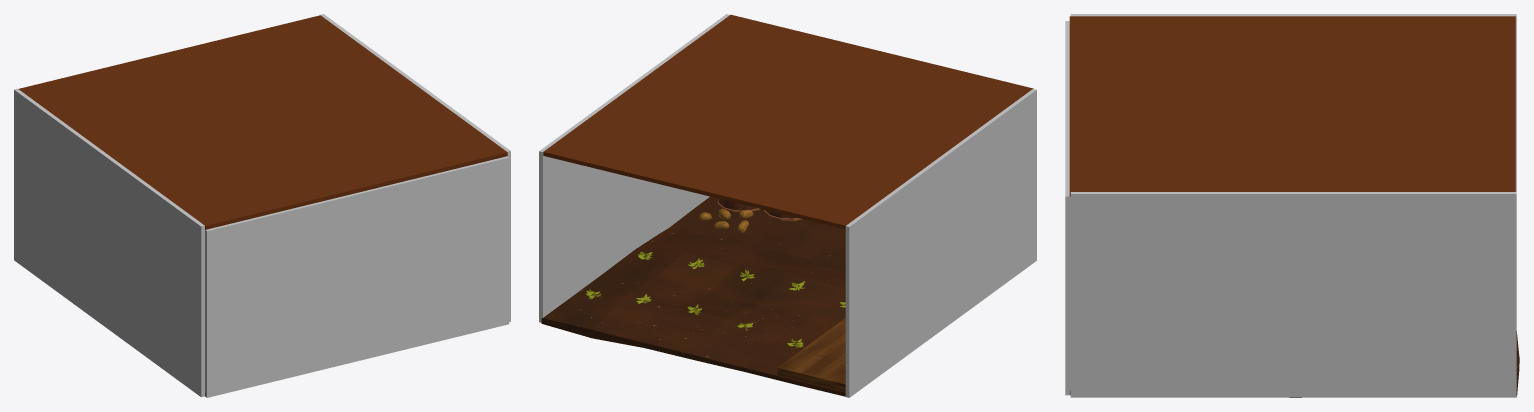
File: FarmRoom.fbx
3 renders of one model, left to right at view 1: azimuth 30°, elevation 25°; view 2: azimuth 150°, elevation 25°; view 3: azimuth 270°, elevation 25°, orthographic. The views are drawn at different scales.
Visible parts, largest first — view 1: DirtyCeiling.002, SideWall1.009, SideWall1.002, SideWall1.008; view 2: DirtyCeiling.002, SideWall1.002, DirtyGround.002, SideWall1.008, FarmGround, Plane.049; view 3: SideWall1.008, DirtyCeiling.002, SideWall1.009, SideWall1.002.
Boxes of the visible parts, x1,y1,x2,y2 form: DirtyCeiling.002: (18,15,507,229); SideWall1.009: (205,156,509,397); SideWall1.002: (14,88,204,397); SideWall1.008: (320,14,510,321); DirtyCeiling.002: (543,14,1033,229); SideWall1.002: (845,89,1036,397); DirtyGround.002: (541,196,845,396); SideWall1.008: (539,14,729,322); FarmGround: (777,318,845,392); Plane.049: (585,251,845,347); SideWall1.008: (1070,192,1516,397); DirtyCeiling.002: (1069,16,1515,196); SideWall1.009: (1065,21,1070,395); SideWall1.002: (1070,14,1516,191).
Size of the model in its own units: 517 by 278 by 551.
